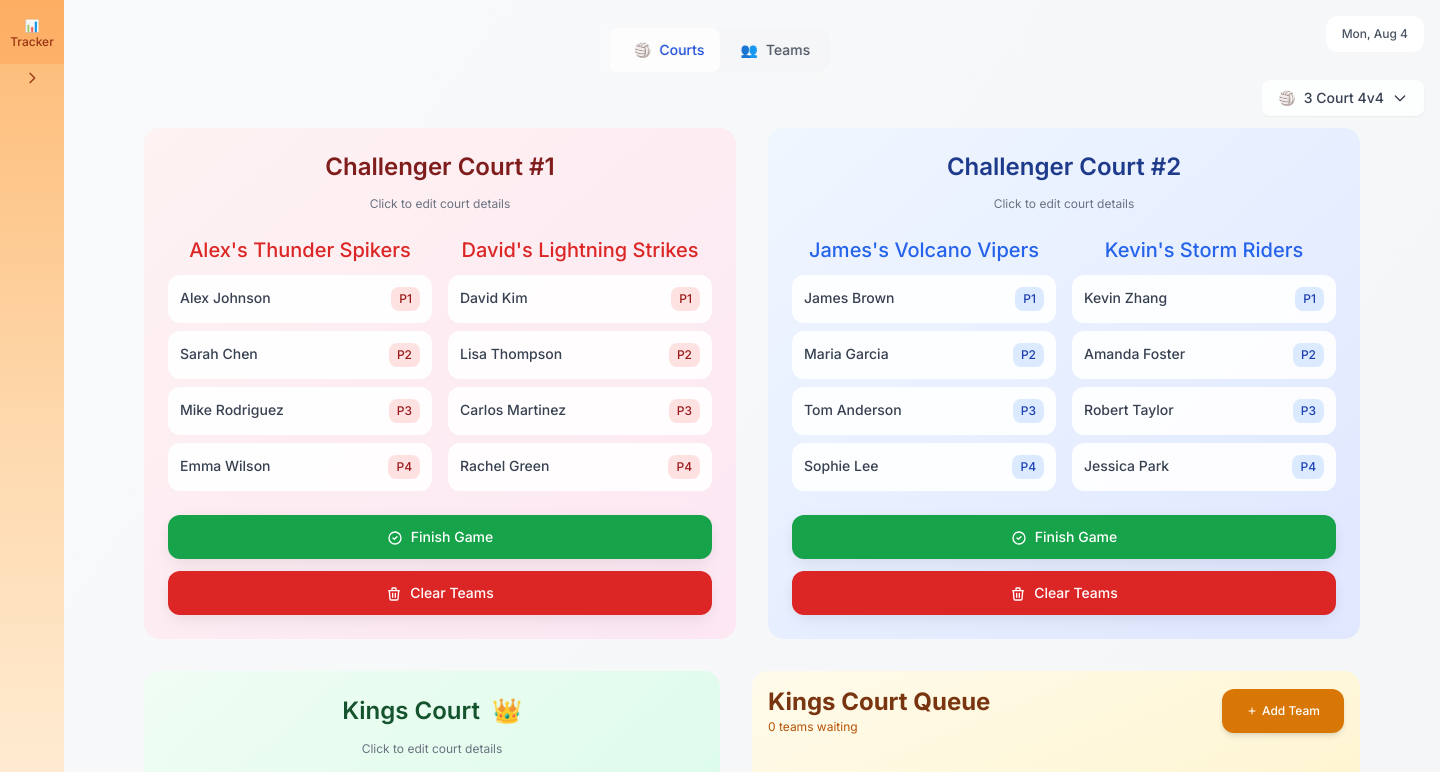
Test: App Integration › should switch between Courts and Teams views
Expected: the heading "Challenger Court #1" is shown, [325, 152, 555, 182]
Switch to Teams view - use more specific selector
Click the button with aria-label "view teams page" at [775, 50], box [724, 32, 826, 68]
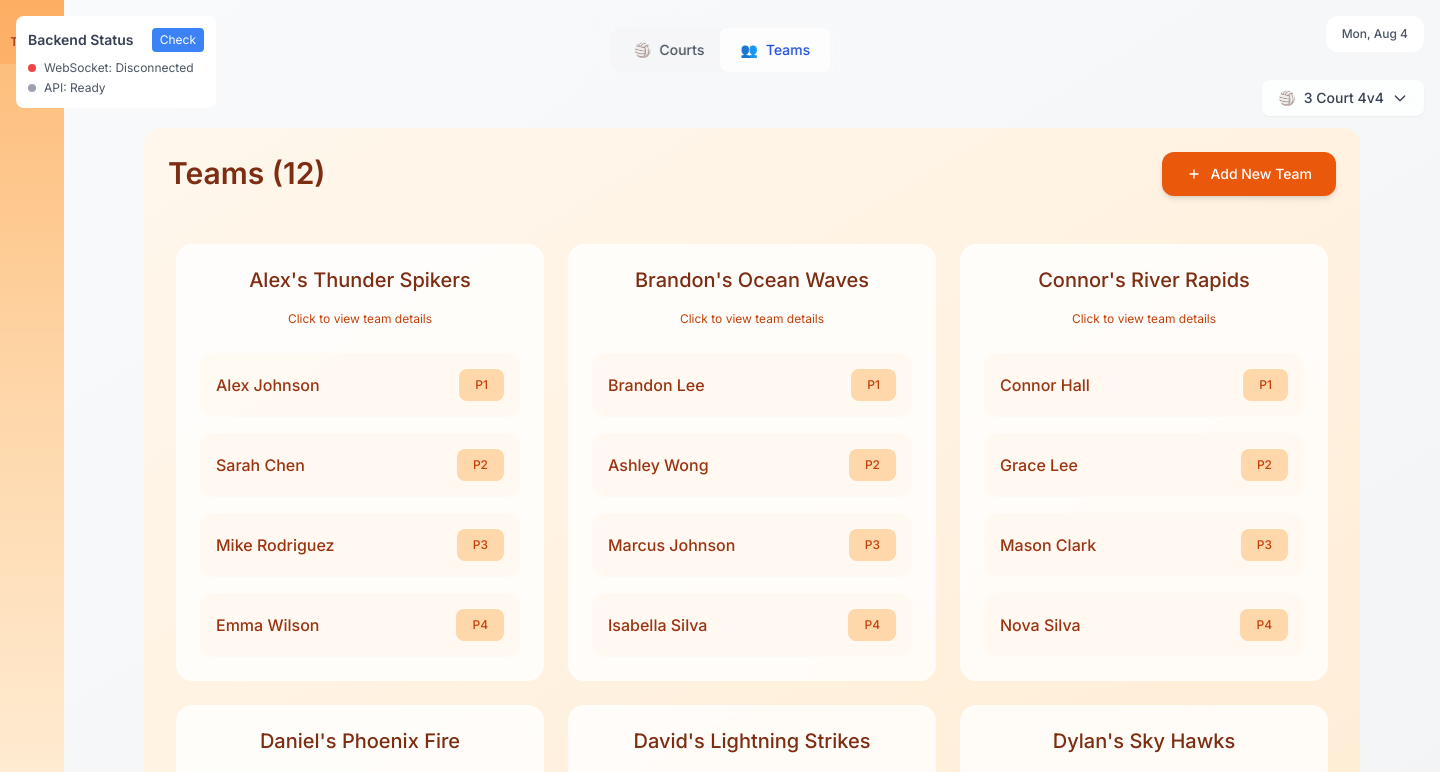
Expected: the heading "Teams (12)" is shown, [168, 155, 326, 193]
Switch back to Courts view
Click the button with aria-label "view courts page" at [669, 50], box [618, 32, 720, 68]
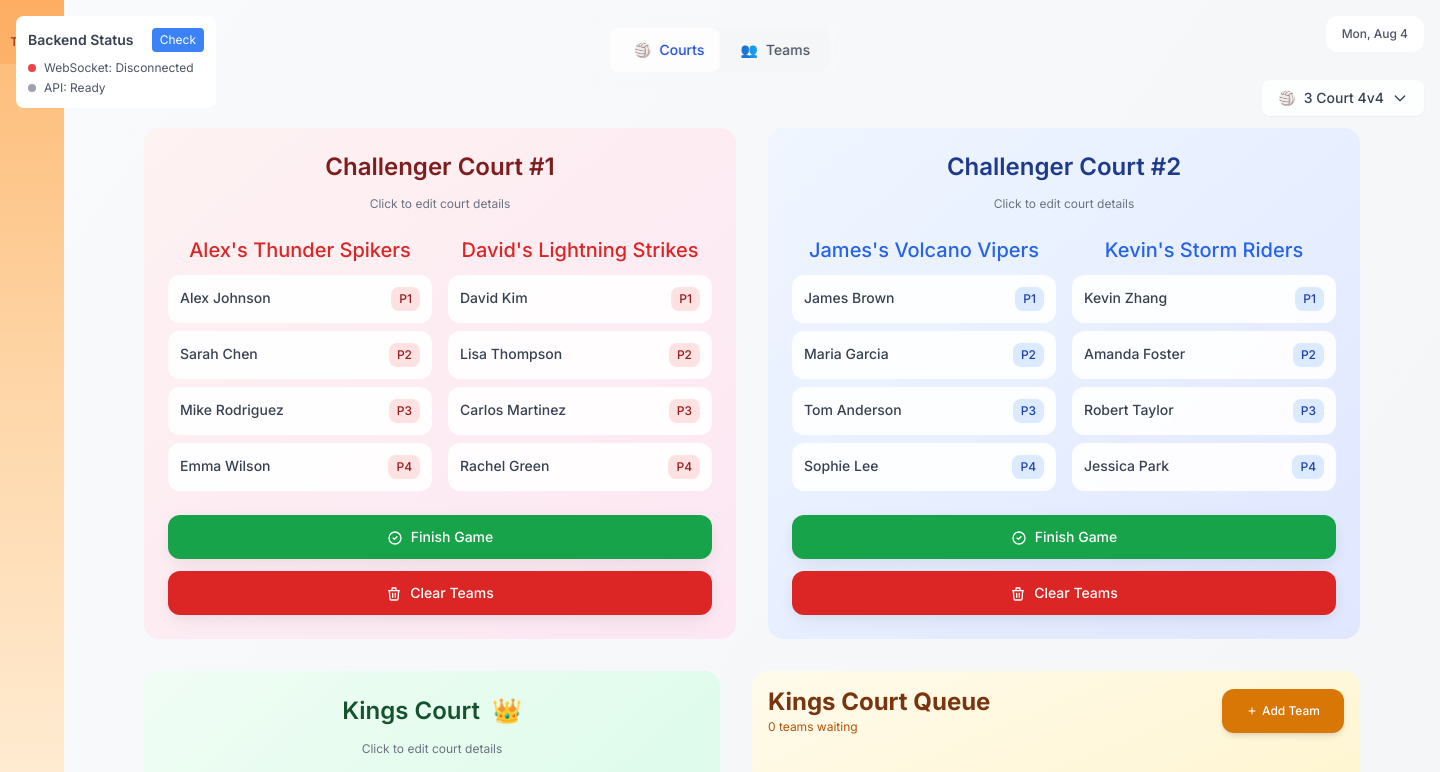
Expected: the heading "Challenger Court #1" is shown, [325, 152, 555, 182]
